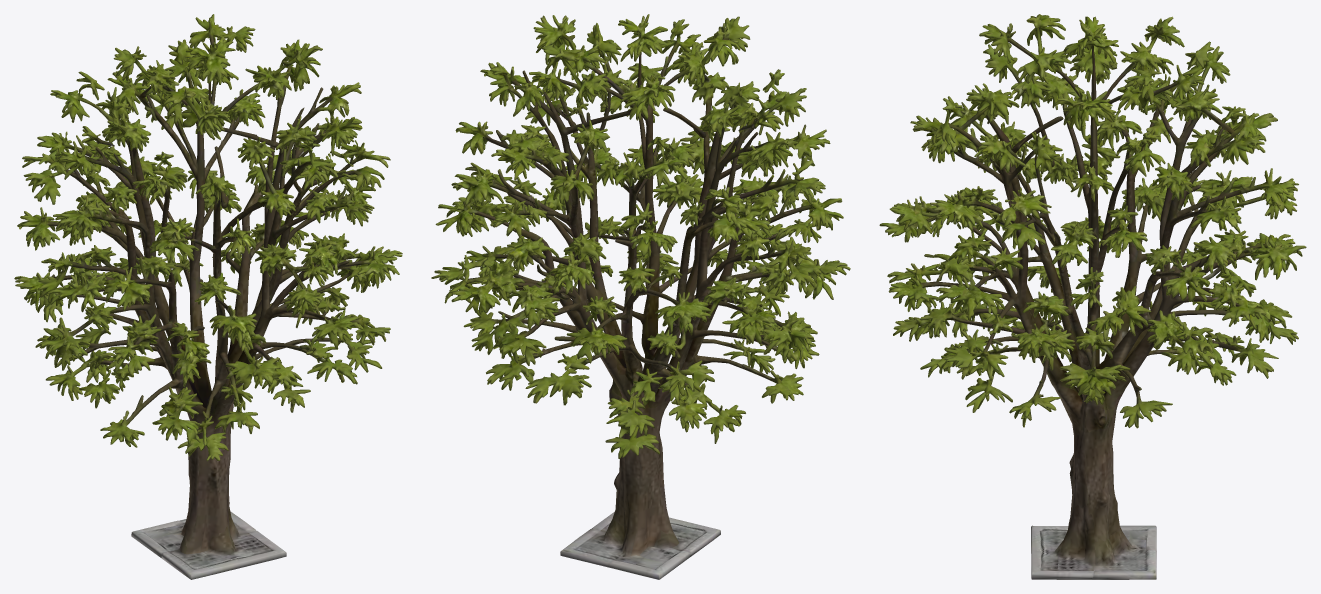
Rendered from tree.glb.
The picture shows the model from 3 angles, left to right: view 1: azimuth 30°, elevation 25°; view 2: azimuth 150°, elevation 25°; view 3: azimuth 270°, elevation 25°; orthographic projection. The views are drawn at different scales.
Parts seen in each view (by area): view 1: tripo_node_d8a93de6-7e69-4bc6-8c72-06a2c2bdea6b; view 2: tripo_node_d8a93de6-7e69-4bc6-8c72-06a2c2bdea6b; view 3: tripo_node_d8a93de6-7e69-4bc6-8c72-06a2c2bdea6b.
Boxes of the visible parts, <box> form: tripo_node_d8a93de6-7e69-4bc6-8c72-06a2c2bdea6b: <box>14,14,402,579</box>; tripo_node_d8a93de6-7e69-4bc6-8c72-06a2c2bdea6b: <box>431,14,850,579</box>; tripo_node_d8a93de6-7e69-4bc6-8c72-06a2c2bdea6b: <box>879,14,1306,579</box>.
Size of the model in its own units: 0.6966 by 0.9998 by 0.7228.
Materials: 1 (1 with a texture image).
